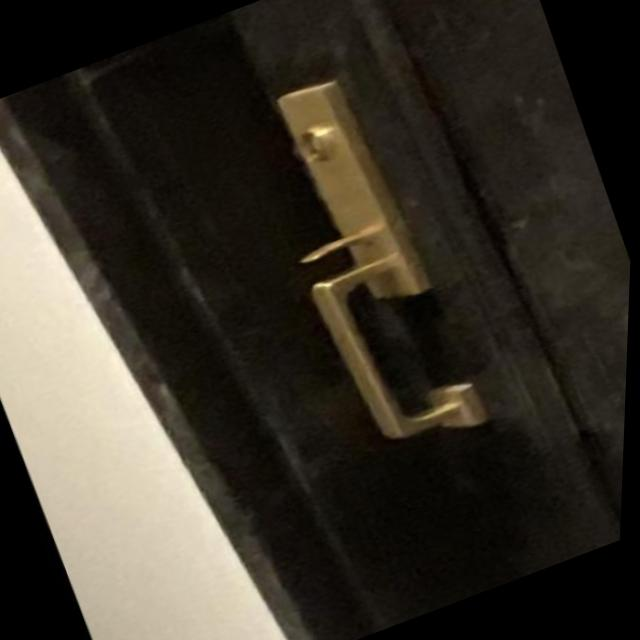door_handle: (275, 214, 522, 479)
